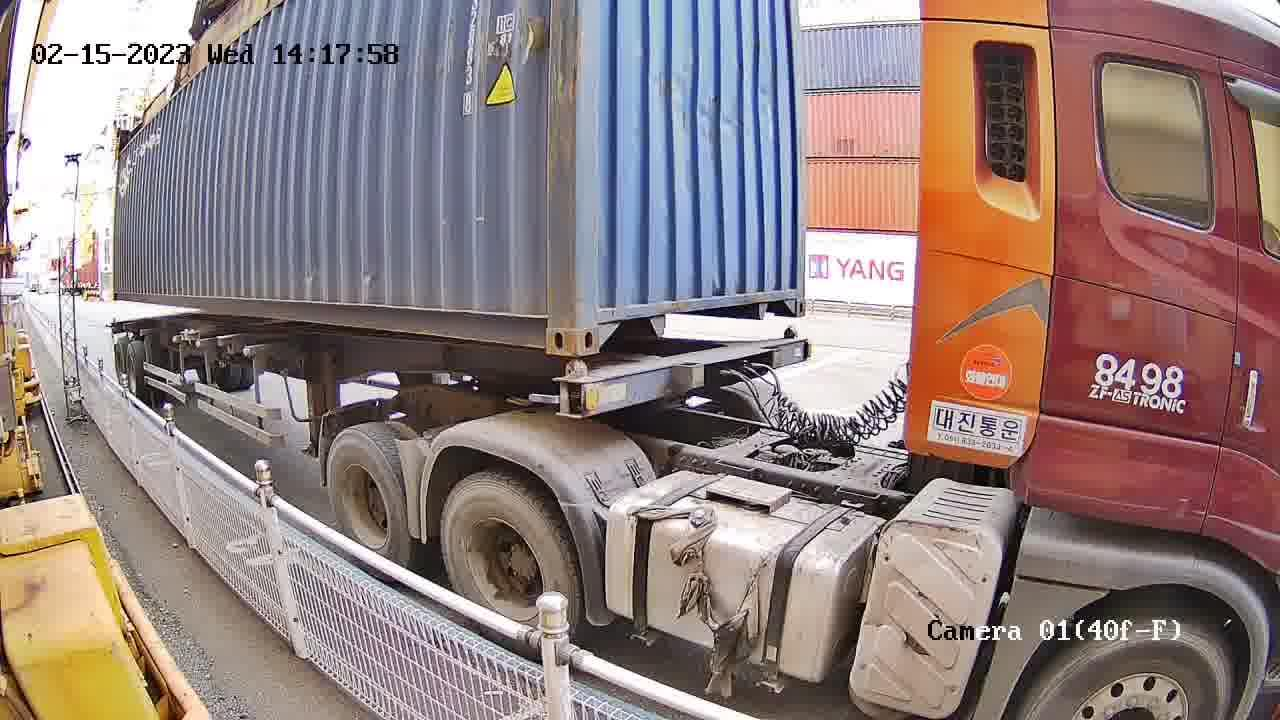Chassis: (582, 338, 811, 417)
Cone: (562, 359, 592, 414), (783, 324, 805, 368)
Hole_L: (576, 283, 636, 358)
Hole_R: (520, 288, 577, 358), (769, 263, 808, 321)
Tire: (440, 479, 575, 631), (330, 433, 412, 565)
